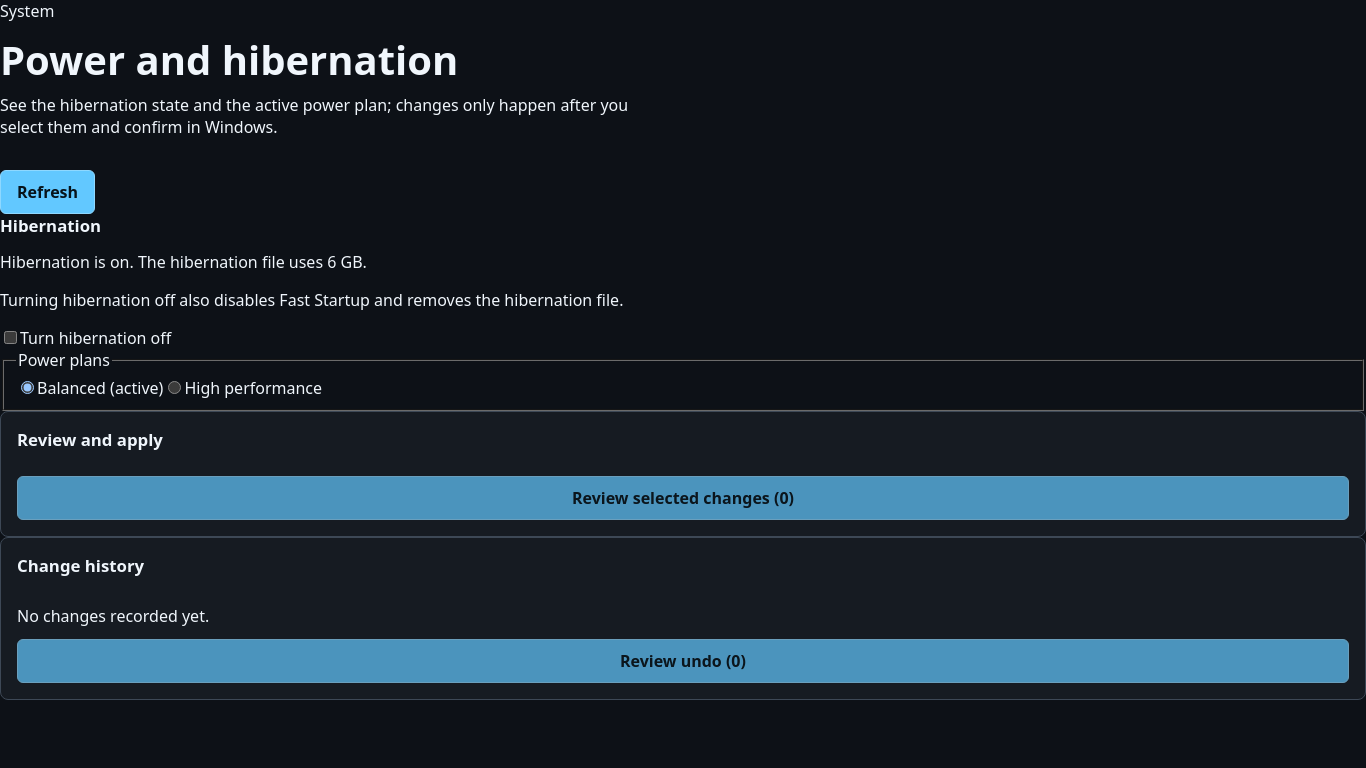
Test: sends the exact scheme id when a different plan is picked
Click the radio button labelled "High performance".
click(175, 387)  # box [168,380,181,394]
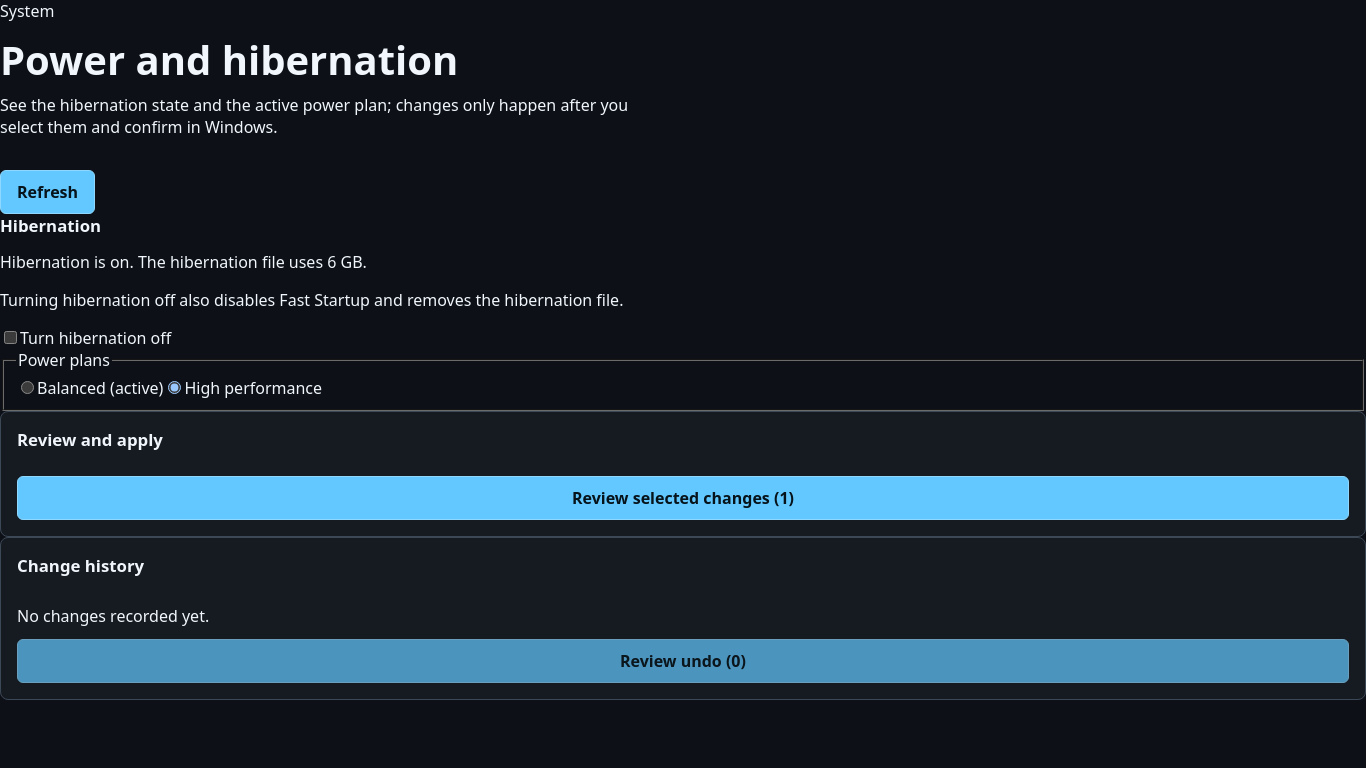
Click the button "Review selected changes (1)".
click(683, 498)  # box [17,476,1349,520]
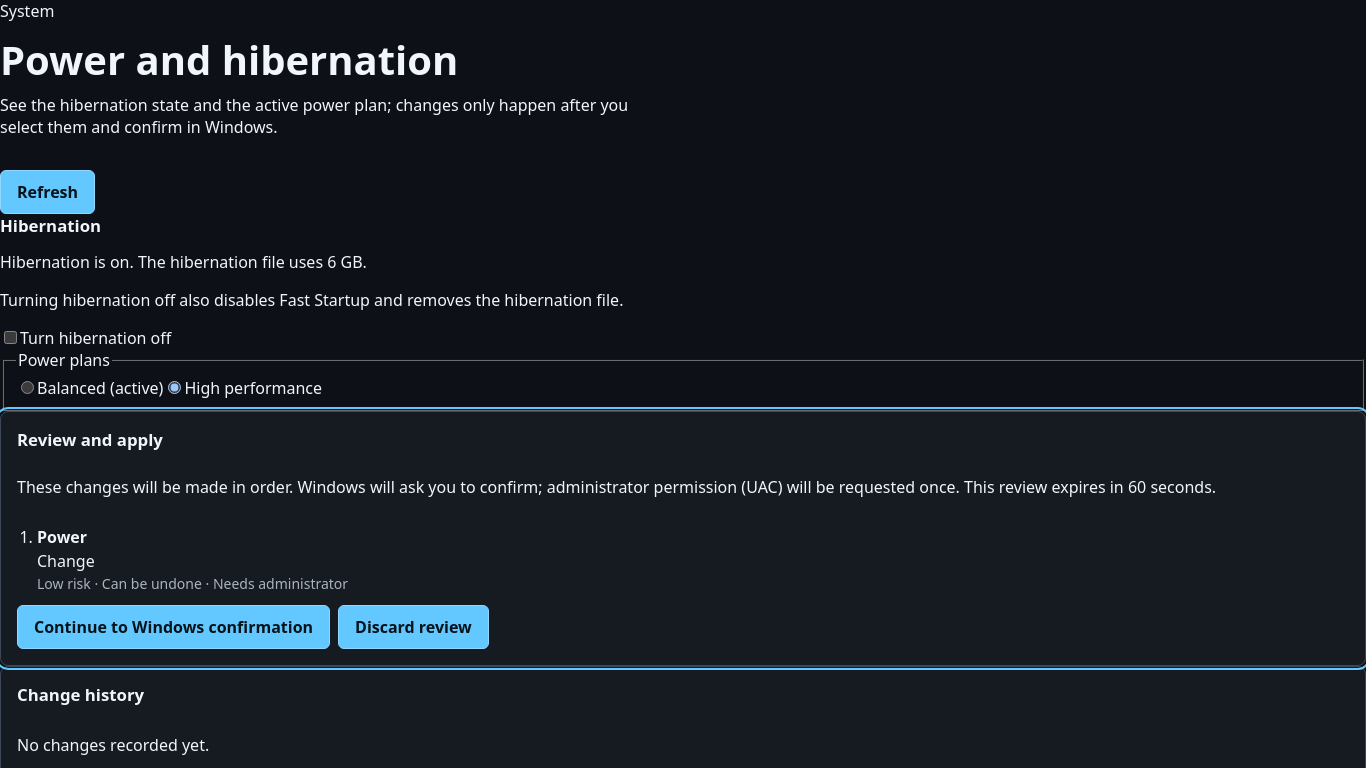
Expected: the button "Continue to Windows confirmation" is shown, [17,606,330,650]
